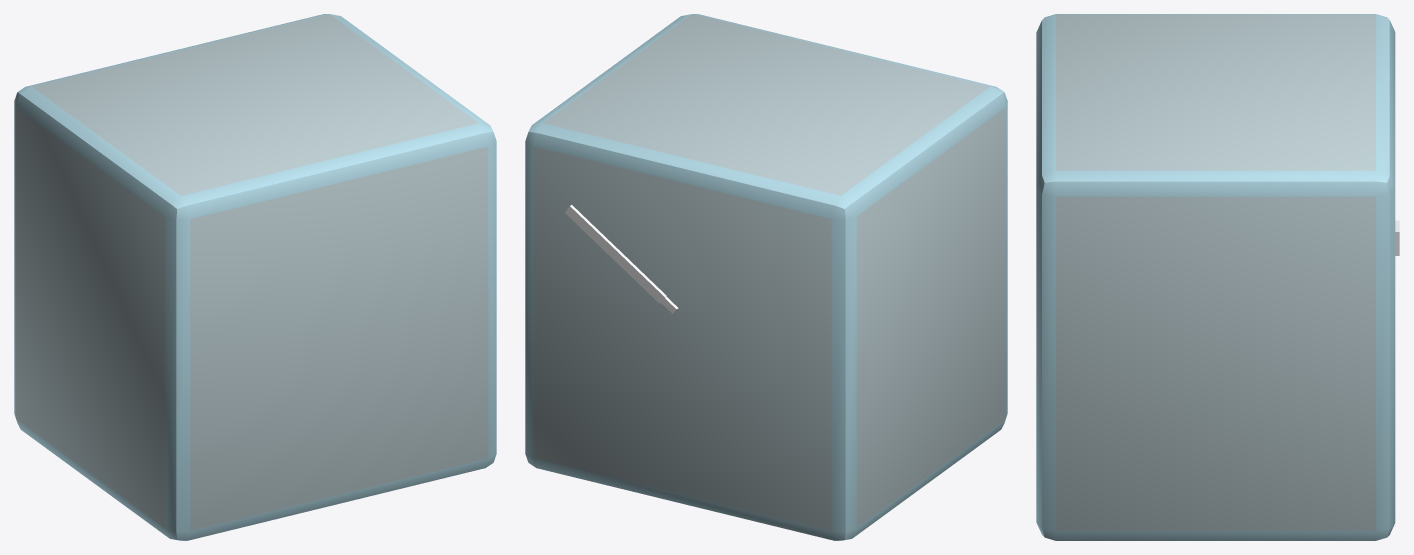
File: CubeMediumIce.fbx
3 views of the same model, side by side, from view 1: azimuth 30°, elevation 25°; view 2: azimuth 150°, elevation 25°; view 3: azimuth 270°, elevation 25° (orthographic). The views are drawn at different scales.
Visible parts, largest first — view 1: CubeMediumIce; view 2: CubeMediumIce; view 3: CubeMediumIce.
Boxes of the visible parts, <box> form: CubeMediumIce: <box>14,14,496,540</box>; CubeMediumIce: <box>525,14,1007,540</box>; CubeMediumIce: <box>1036,14,1399,540</box>.
Bounding box in the file's own units: 2.5 × 2.5 × 2.23.
